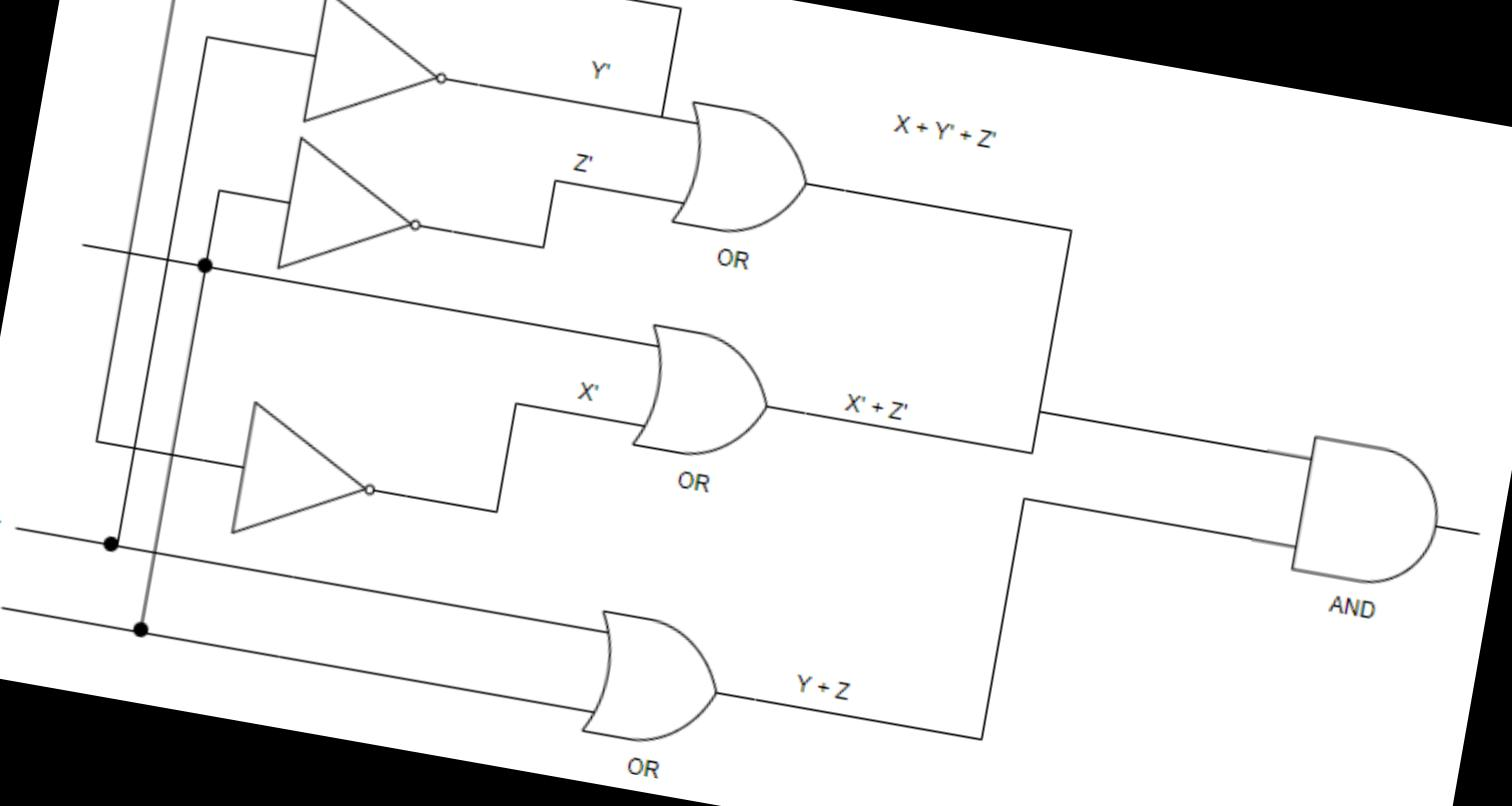and: (1277, 421, 1472, 611)
not: (260, 130, 448, 300), (616, 314, 792, 484), (223, 390, 396, 560), (285, 0, 469, 152)
or: (573, 594, 744, 764), (662, 87, 822, 258)
